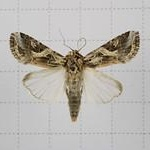Spodoptera litura: (9, 27, 140, 123)
